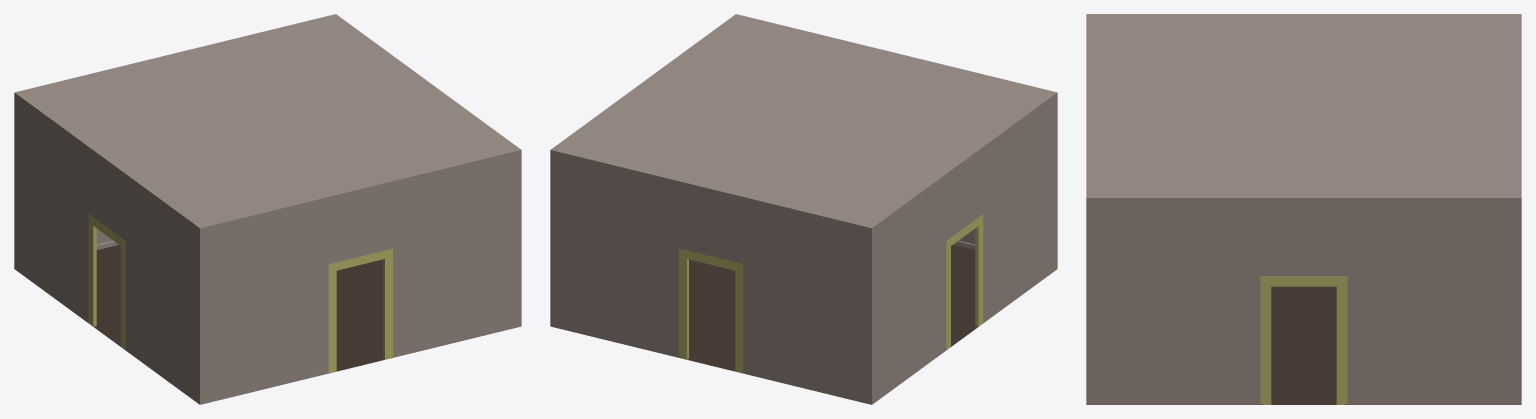
File: Room13_CollapsedRoom.fbx
The picture shows the model from 3 angles, left to right: view 1: azimuth 30°, elevation 25°; view 2: azimuth 150°, elevation 25°; view 3: azimuth 270°, elevation 25°; orthographic projection. The views are drawn at different scales.
Visible parts, largest first — view 1: Roof, WallSlicedPosZ, WallSlicedPosX, WallSlicedPosZ24, Floor, WallSlicedPosX3, DoorFramePosZ, DoorFramePosX, WallSlicedNegX, WallSlicedNegZ; view 2: Roof, WallSlicedNegZ, WallSlicedPosX, WallSlicedNegZ16, Floor, WallSlicedPosX3, DoorFrameNegZ, DoorFramePosX, WallSlicedNegX, WallSlicedPosZ; view 3: Roof, WallSlicedNegX, WallSlicedNegX1, Floor, DoorFrameNegX, WallSlicedPosZ, WallSlicedNegZ, WallSlicedPosX.
Part boxes in pixels (x1,y1,x2,y2): Roof: (17, 15, 518, 227); WallSlicedPosZ: (199, 149, 521, 364); WallSlicedPosX: (14, 92, 201, 364); WallSlicedPosZ24: (198, 286, 521, 404); Floor: (89, 245, 392, 373); WallSlicedPosX3: (14, 229, 201, 404); DoorFramePosZ: (328, 248, 392, 372); DoorFramePosX: (88, 214, 125, 349); WallSlicedNegX: (335, 14, 521, 286); WallSlicedNegZ: (14, 14, 334, 228); Roof: (553, 15, 1054, 227); WallSlicedNegZ: (550, 149, 872, 364); WallSlicedPosX: (870, 92, 1057, 363); WallSlicedNegZ16: (550, 286, 872, 404); Floor: (679, 245, 982, 373); WallSlicedPosX3: (869, 230, 1056, 404); DoorFrameNegZ: (679, 248, 743, 372); DoorFramePosX: (946, 214, 983, 349); WallSlicedNegX: (550, 14, 736, 286); WallSlicedPosZ: (737, 14, 1057, 228); Roof: (1088, 14, 1519, 197); WallSlicedNegX: (1086, 197, 1521, 357); WallSlicedNegX1: (1086, 357, 1521, 404); Floor: (1260, 286, 1347, 404); DoorFrameNegX: (1260, 276, 1347, 404); WallSlicedPosZ: (1086, 14, 1087, 357); WallSlicedNegZ: (1520, 14, 1521, 357); WallSlicedPosX: (1086, 14, 1520, 14).
Size of the model in its own units: 800 by 420 by 800.
